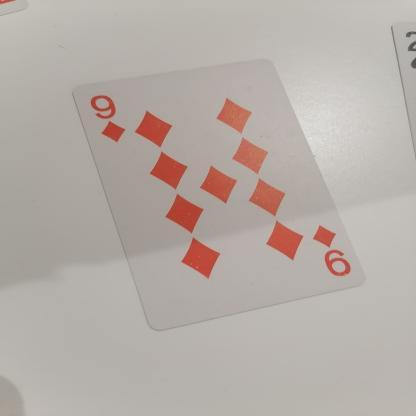9D: (300, 218, 366, 280), (86, 92, 135, 144)
